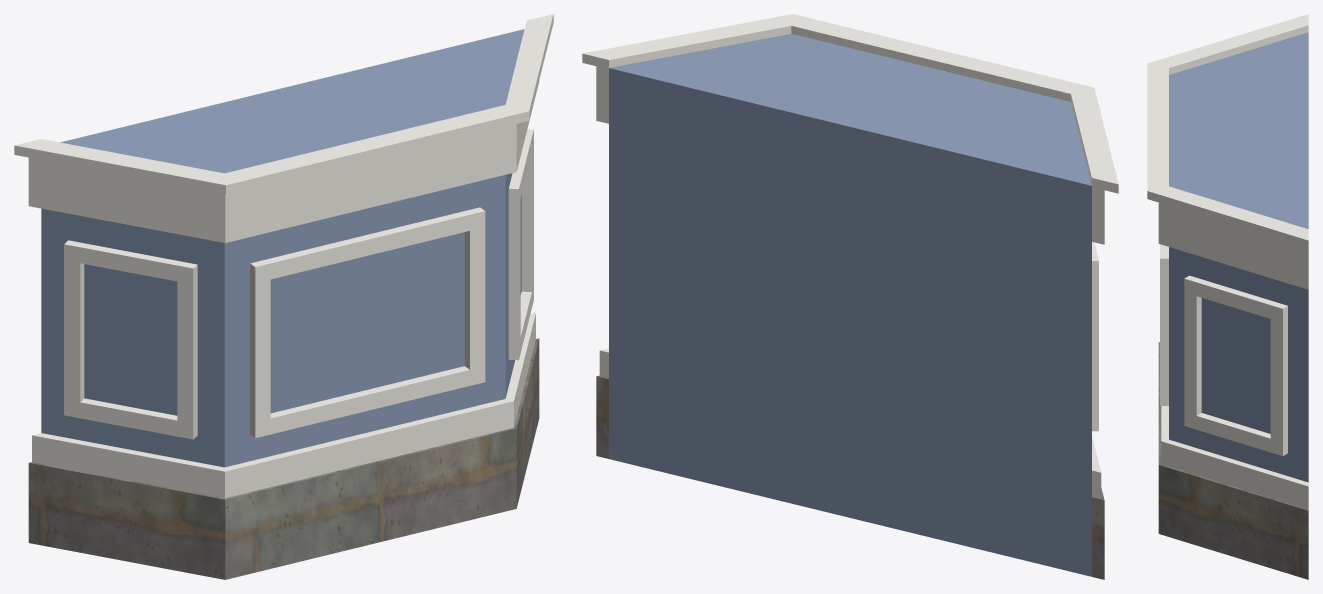
Rendered from bay_base_d.glb.
3 views of the same model, side by side, from view 1: azimuth 30°, elevation 25°; view 2: azimuth 150°, elevation 25°; view 3: azimuth 270°, elevation 25° (orthographic). The views are drawn at different scales.
Parts seen in each view (by area): view 1: bay_base_d_acc_d, bay_base_d_trim, bay_base_d_plinth; view 2: bay_base_d_acc_d, bay_base_d_trim, bay_base_d_plinth; view 3: bay_base_d_acc_d, bay_base_d_trim, bay_base_d_plinth.
Part boxes in pixels (x1,y1,x2,y2): bay_base_d_acc_d: (41,29,524,467); bay_base_d_trim: (14,14,553,498); bay_base_d_plinth: (28,338,539,579); bay_base_d_acc_d: (609,34,1091,576); bay_base_d_trim: (582,14,1118,499); bay_base_d_plinth: (596,375,1104,579); bay_base_d_acc_d: (1169,32,1308,482); bay_base_d_trim: (1147,14,1308,509); bay_base_d_plinth: (1158,342,1308,579).
Size of the model in its own units: 2.11 by 1.5 by 0.635.
Materials: 3 (1 with a texture image).
